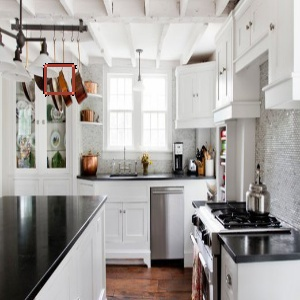square: (42, 62, 77, 97)
